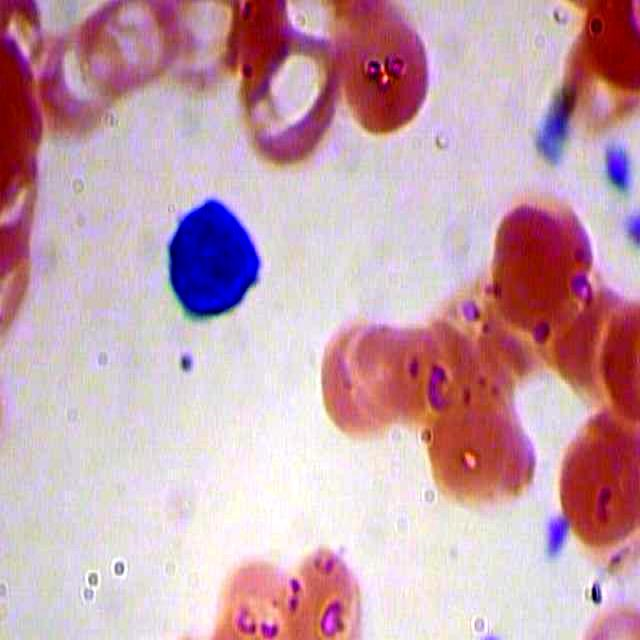Platelets: (601, 140, 634, 195), (535, 508, 568, 563), (618, 205, 640, 260)
RBC: (487, 191, 594, 353), (422, 378, 540, 518), (236, 27, 337, 175), (555, 406, 640, 554), (330, 20, 439, 133), (77, 2, 186, 114), (36, 16, 126, 140), (319, 308, 405, 436), (280, 542, 366, 640), (211, 542, 297, 640)
WBC: (153, 179, 275, 344)
